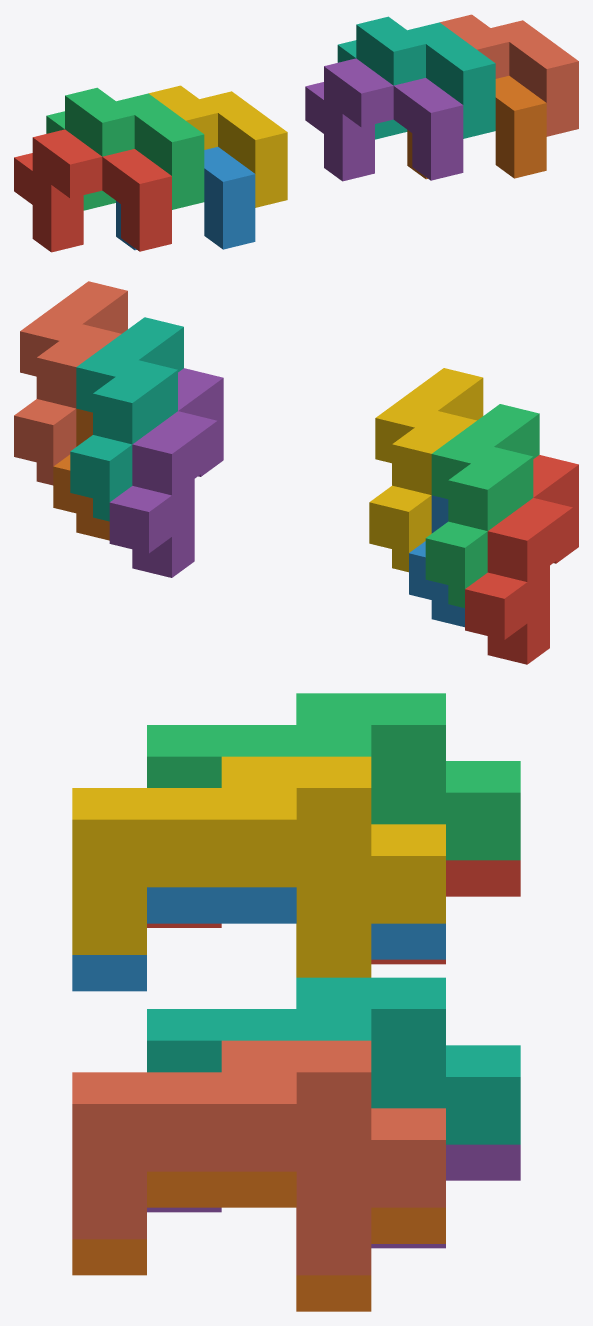
Rendered from tiling.obj.
3 views of the same model, one above another, from view 1: azimuth 30°, elevation 25°; view 2: azimuth 150°, elevation 25°; view 3: azimuth 270°, elevation 25° (orthographic). The views are drawn at different scales.
Parts seen in each view (by area): view 1: copy_1_domain_5, copy_1_domain_1, copy_1_domain_3, copy_1_domain_7, copy_1_domain_4, copy_1_domain_8, copy_1_domain_6, copy_1_domain_2; view 2: copy_1_domain_5, copy_1_domain_1, copy_1_domain_3, copy_1_domain_7, copy_1_domain_8, copy_1_domain_4, copy_1_domain_6, copy_1_domain_2; view 3: copy_1_domain_8, copy_1_domain_4, copy_1_domain_7, copy_1_domain_3, copy_1_domain_6, copy_1_domain_2, copy_1_domain_1, copy_1_domain_5.
Part boxes in pixels (x1,y1,x2,y2): copy_1_domain_5: (305,58,463,181); copy_1_domain_1: (14,129,171,252); copy_1_domain_3: (46,87,204,210); copy_1_domain_7: (337,16,495,139); copy_1_domain_4: (149,85,287,207); copy_1_domain_8: (440,14,578,136); copy_1_domain_6: (407,75,546,179); copy_1_domain_2: (116,147,255,250); copy_1_domain_5: (109,368,223,577); copy_1_domain_1: (465,455,578,664); copy_1_domain_3: (425,404,539,607); copy_1_domain_7: (70,317,183,521); copy_1_domain_8: (14,281,127,485); copy_1_domain_4: (369,368,483,572); copy_1_domain_6: (53,408,109,540); copy_1_domain_2: (409,495,464,627); copy_1_domain_8: (72,1040,445,1275); copy_1_domain_4: (72,756,445,977); copy_1_domain_7: (147,977,520,1144); copy_1_domain_3: (147,693,520,860); copy_1_domain_6: (72,1171,445,1311); copy_1_domain_2: (72,887,445,991); copy_1_domain_1: (147,860,520,964); copy_1_domain_5: (147,1144,520,1248).
Size of the model in its own units: 14 by 4 by 6.
